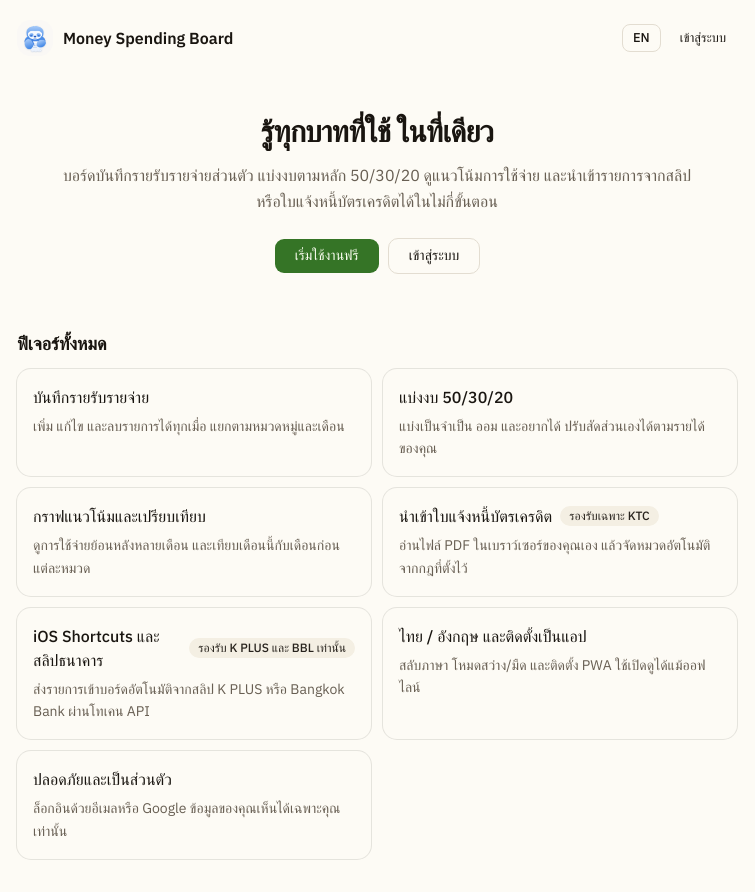
Test: Index page › Render method › should sign in against the configured Supabase project and show the dashboard
The image size is (755, 892).
Click the button "เข้าสู่ระบบ" in the row of "Money Spending Board" at coordinates (703, 38), box [669,24,737,52]
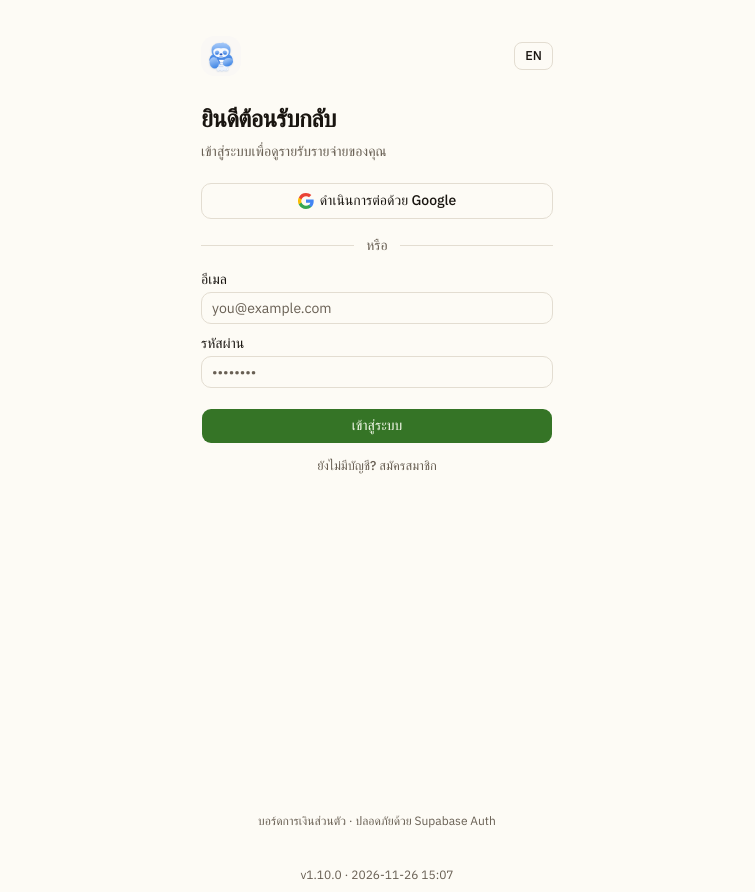
Type "demo@example.com" into the field labelled "อีเมล" at coordinates (377, 308), box [201,292,553,324]
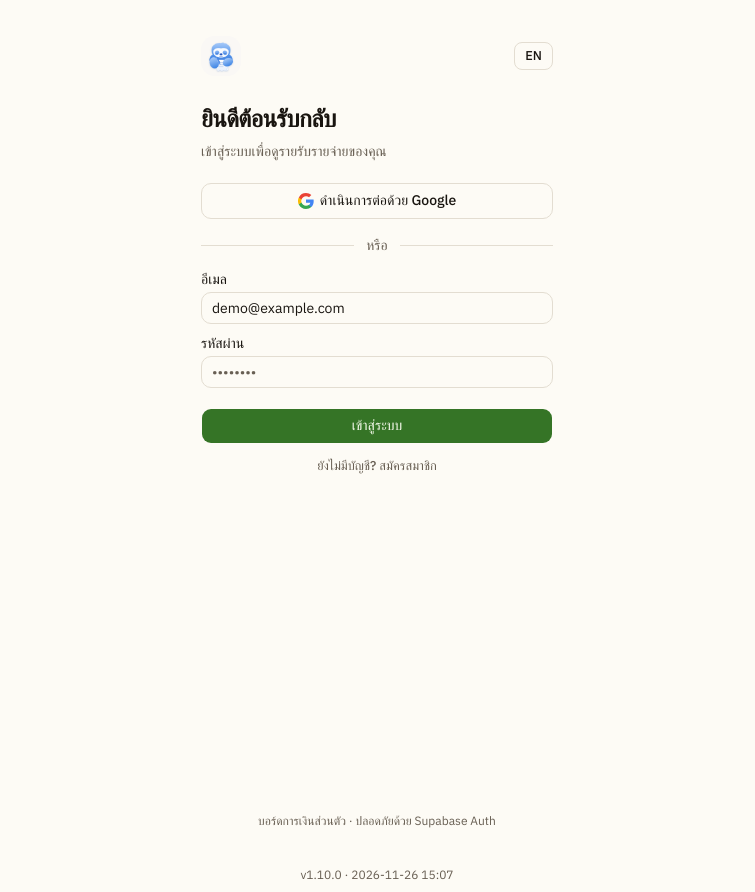
Type "password123" into the password field labelled "รหัสผ่าน" at coordinates (377, 372), box [201,356,553,388]
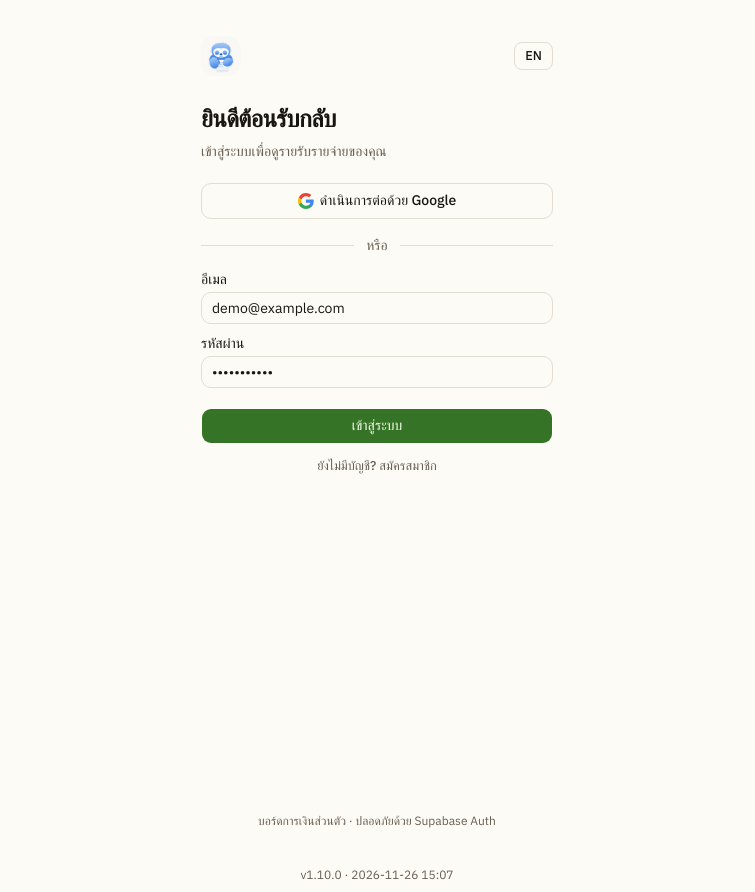
Click the button "เข้าสู่ระบบ" at coordinates (377, 426), box [201,408,553,444]
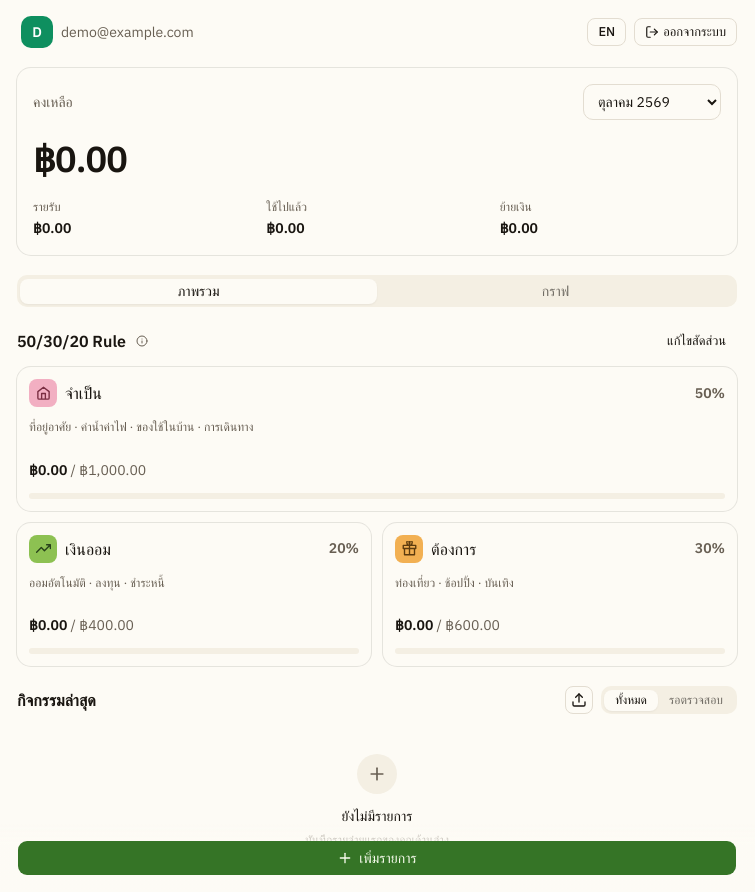
Now the heading "กิจกรรมล่าสุด" is shown, box [17,688,96,712]
Now the button "เพิ่มรายการ" is shown, box [17,840,737,876]
Click the button "EN" at coordinates (607, 32), box [587,18,626,46]
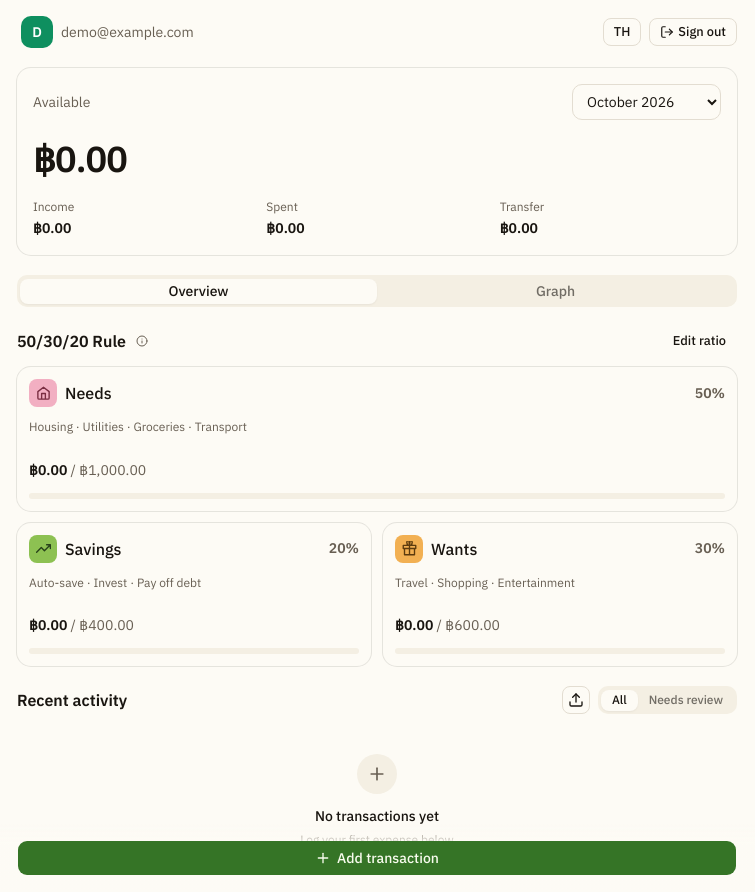
Now the heading "Recent activity" is shown, box [17,688,127,712]
